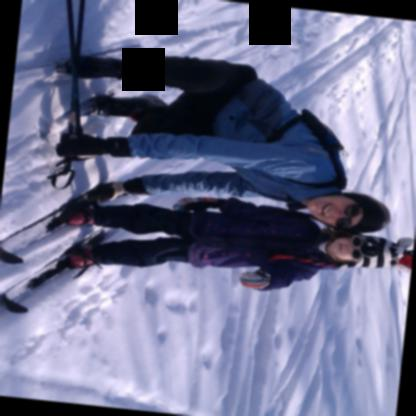backpack: (266, 107, 345, 190)
